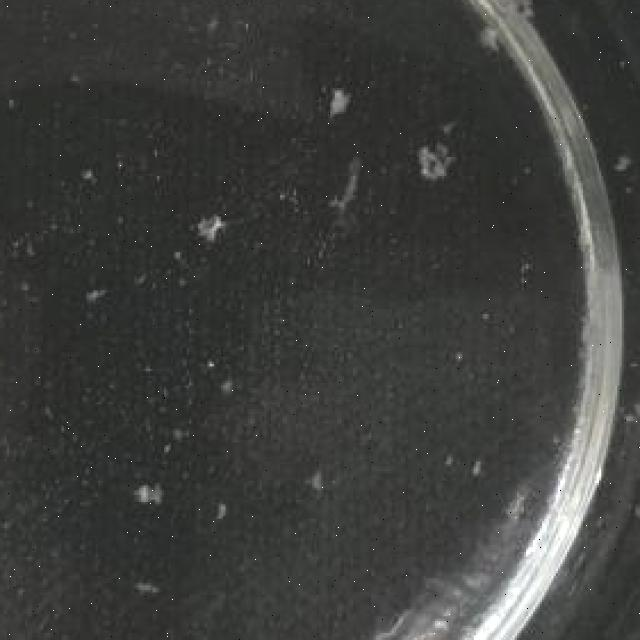Microplastic: (121, 459, 196, 533), (458, 0, 544, 43), (185, 190, 232, 250), (396, 126, 451, 176), (305, 62, 344, 114)
